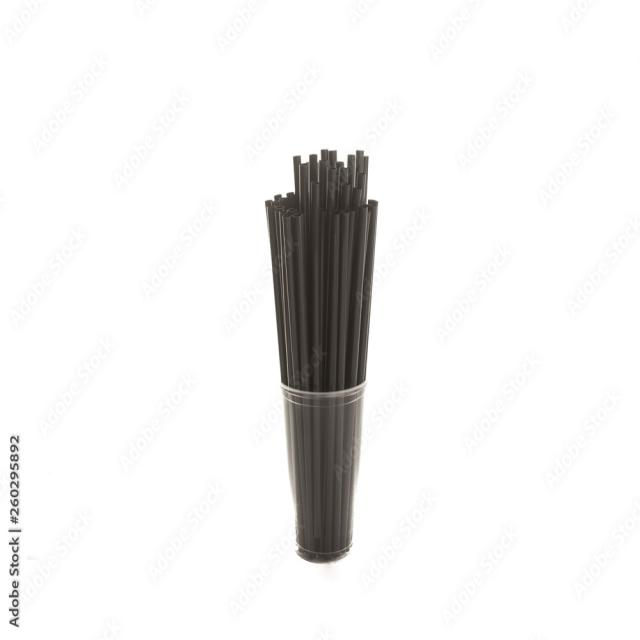plastic: (340, 208, 351, 391)
